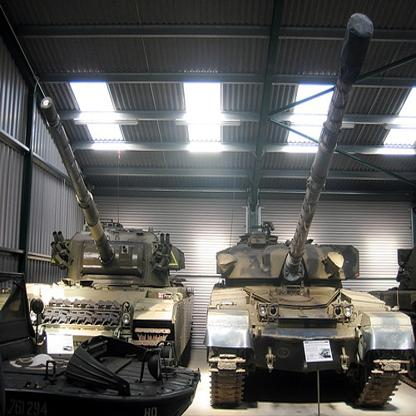Tank: (206, 11, 415, 416), (17, 95, 197, 369)
